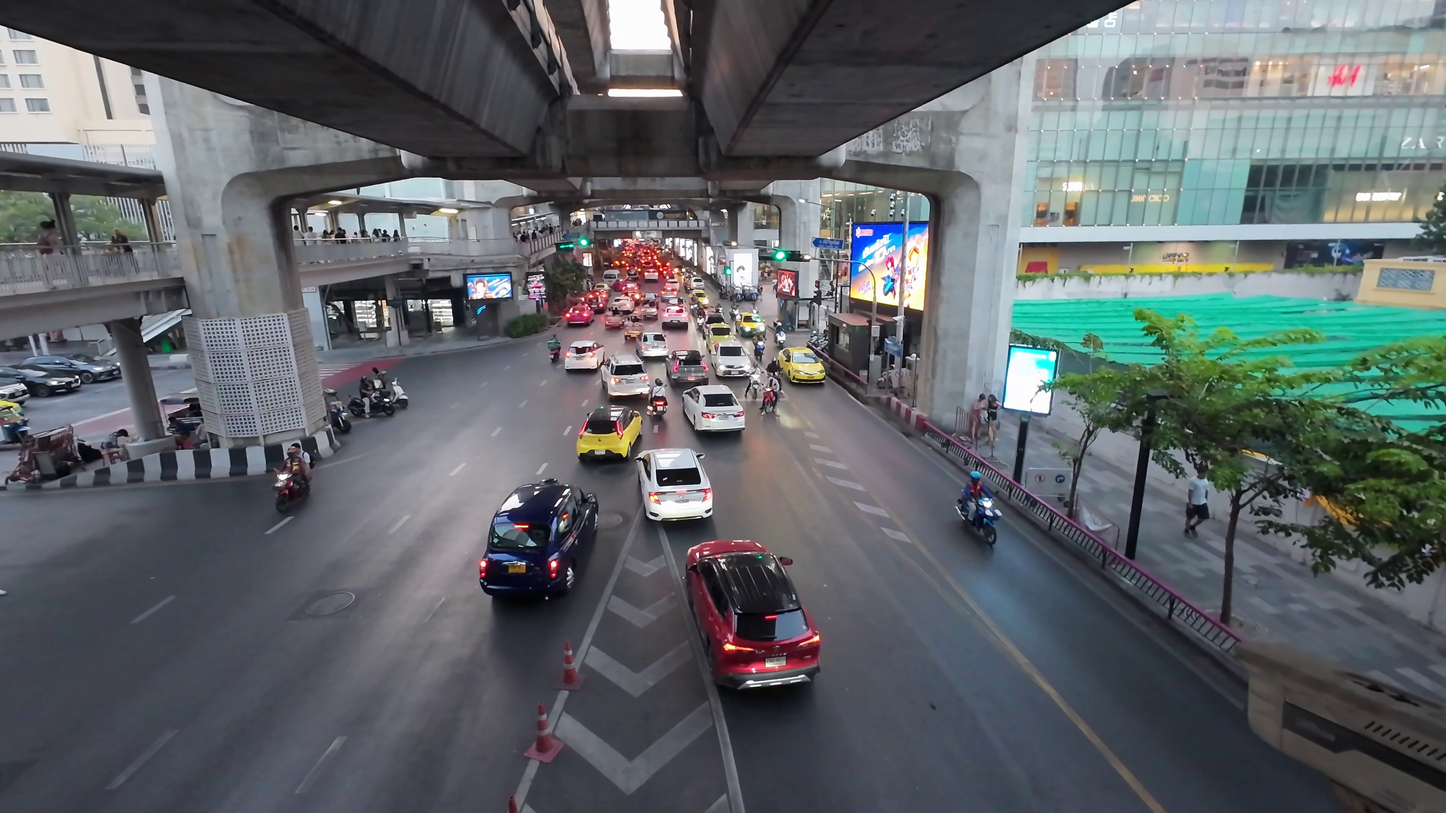license_plate: (718, 630, 789, 681), (508, 552, 568, 591), (658, 493, 696, 518), (591, 444, 627, 464), (696, 414, 729, 432), (965, 527, 989, 545), (791, 370, 815, 384)
motorcycle: (953, 478, 1001, 548)
no_seatbelt: (704, 560, 803, 638), (496, 497, 580, 558), (651, 458, 703, 496), (584, 416, 634, 447), (689, 390, 735, 417), (786, 351, 819, 372)
